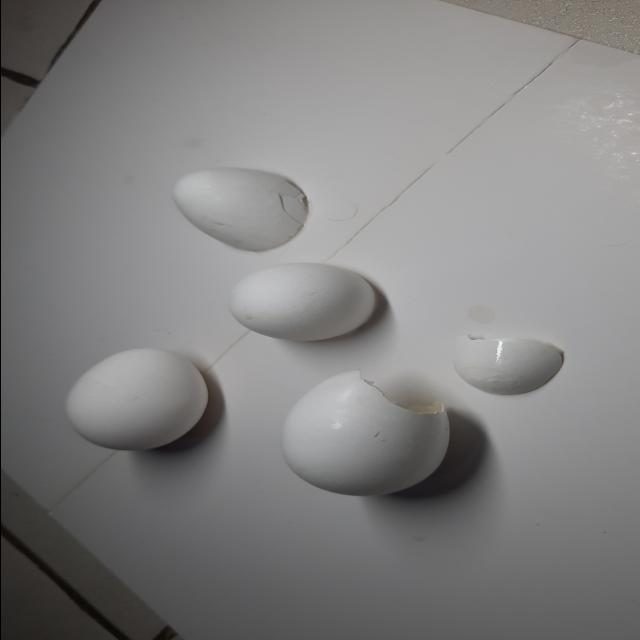egg shell: (272, 368, 455, 498), (58, 346, 214, 454), (220, 262, 390, 346), (164, 166, 316, 256), (445, 328, 572, 398)
